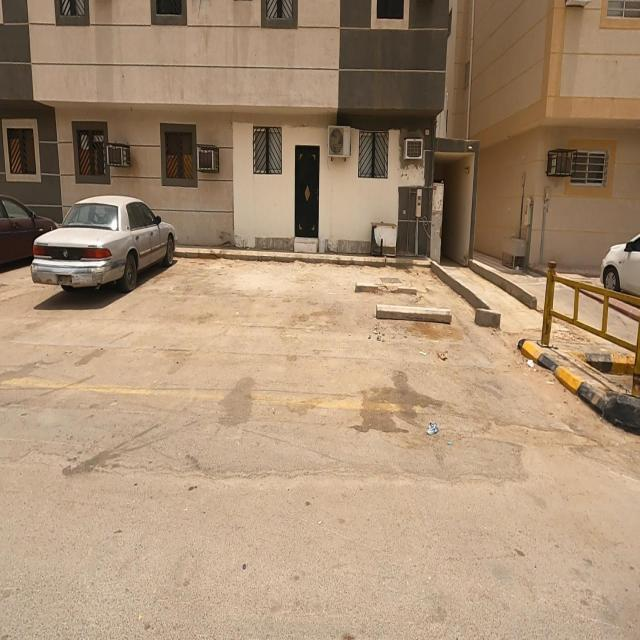debris: (400, 398, 470, 462), (352, 301, 397, 364)
